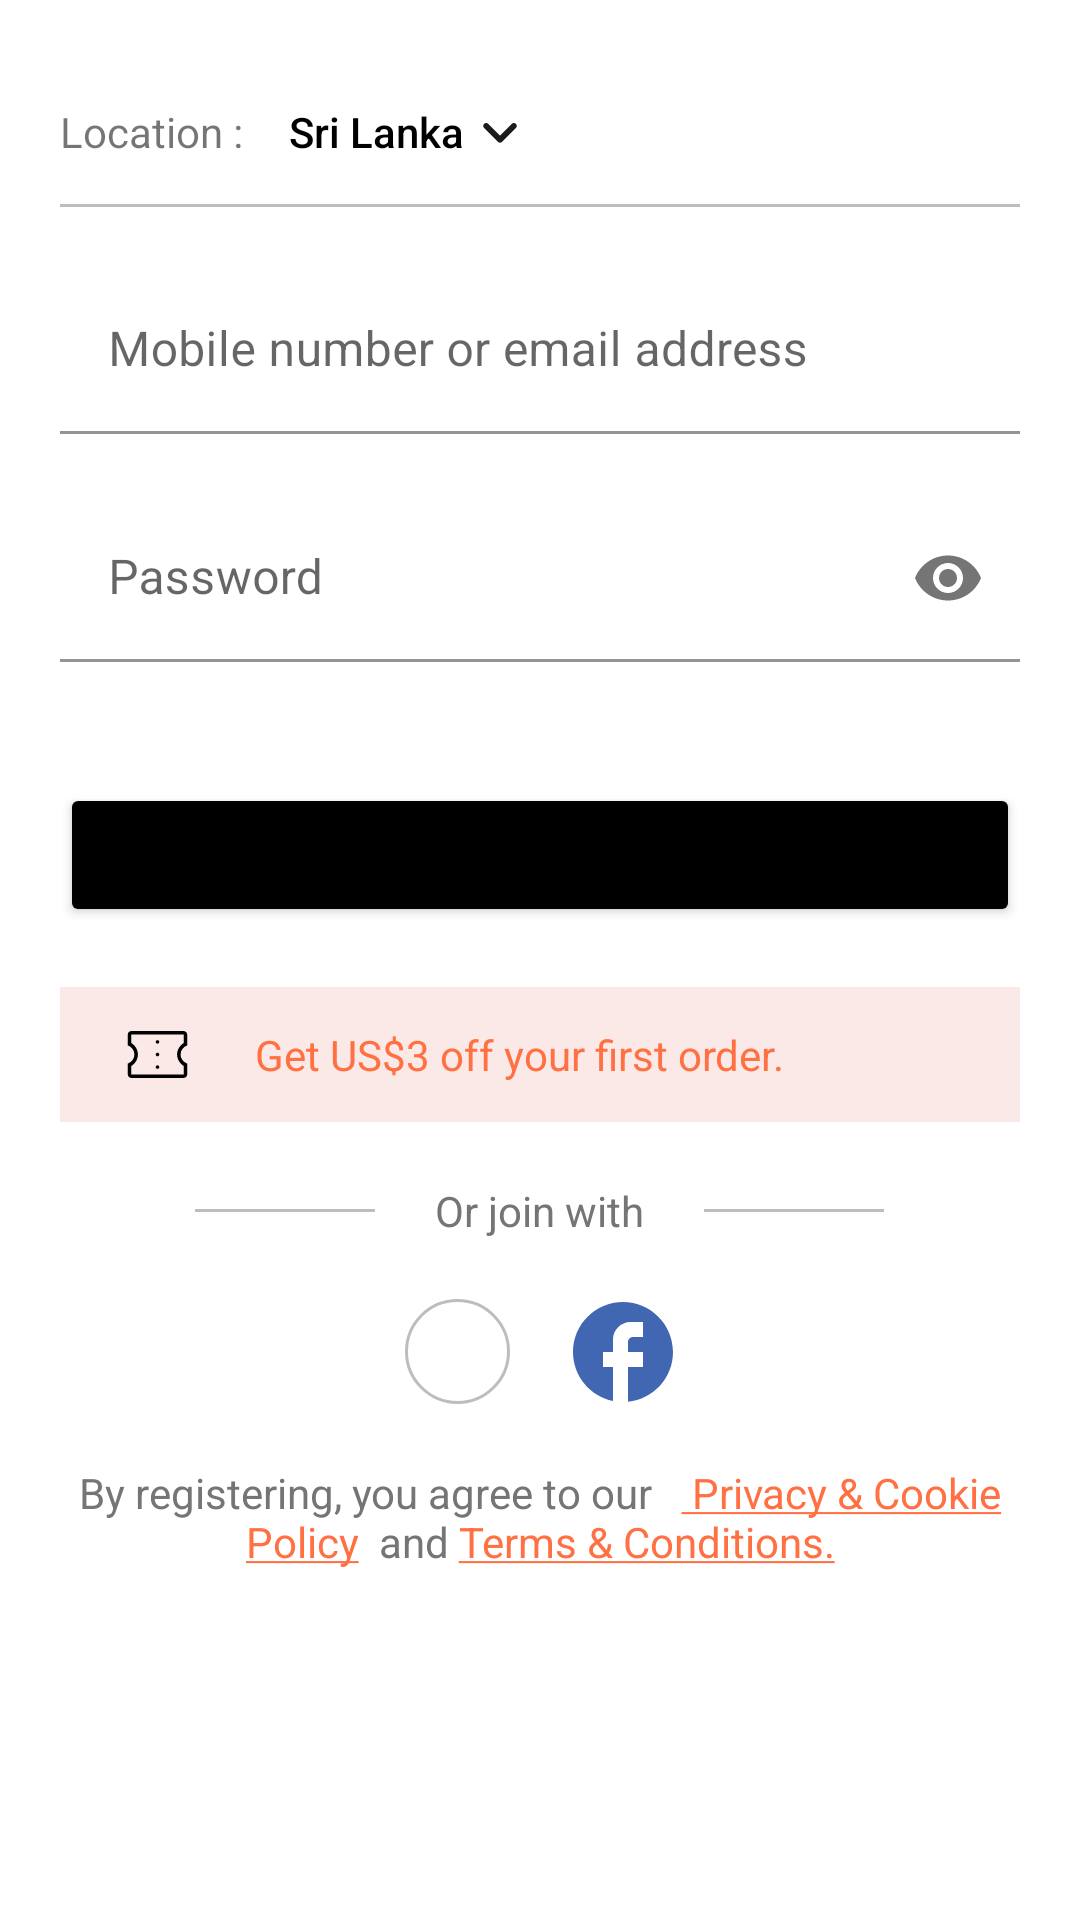

Where to tap for icons on this 1080*1920 app screen, as [x,y]:
voucher: [157,1054]
